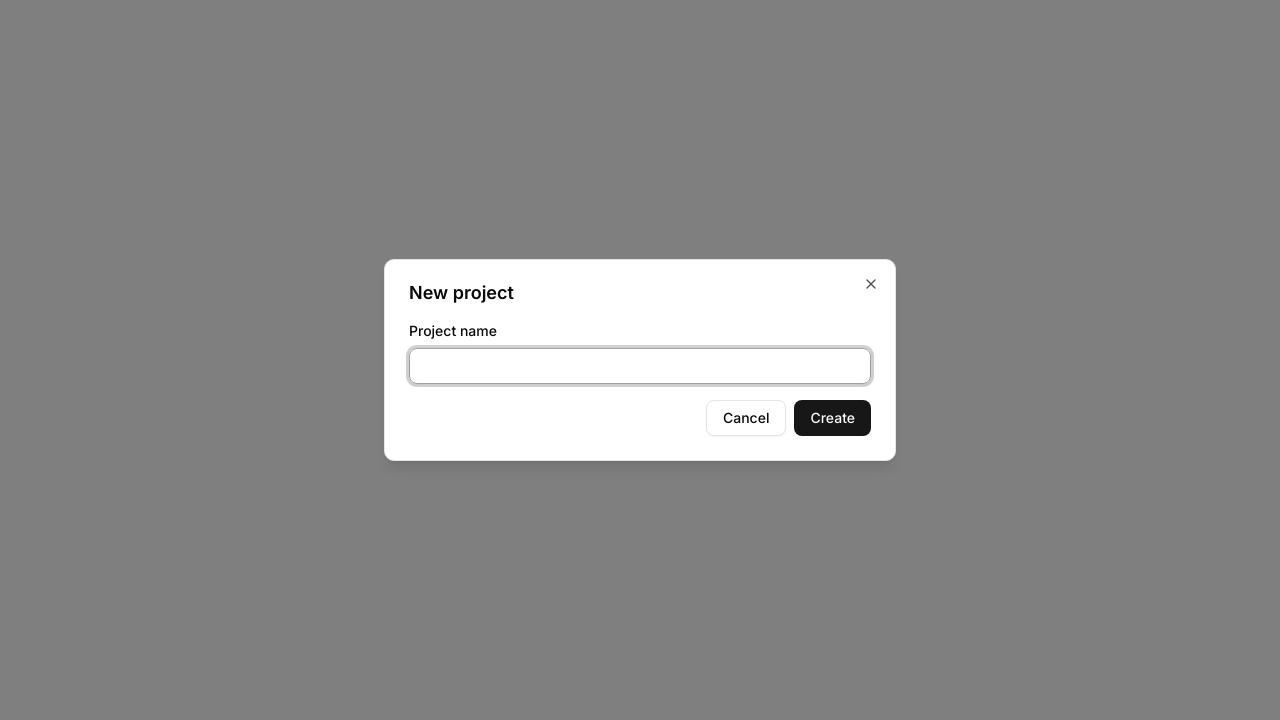
Test: NewProjectDialog › shows error when submitting with empty name
Click the button "Create" at (833, 418), box [794, 400, 871, 436]
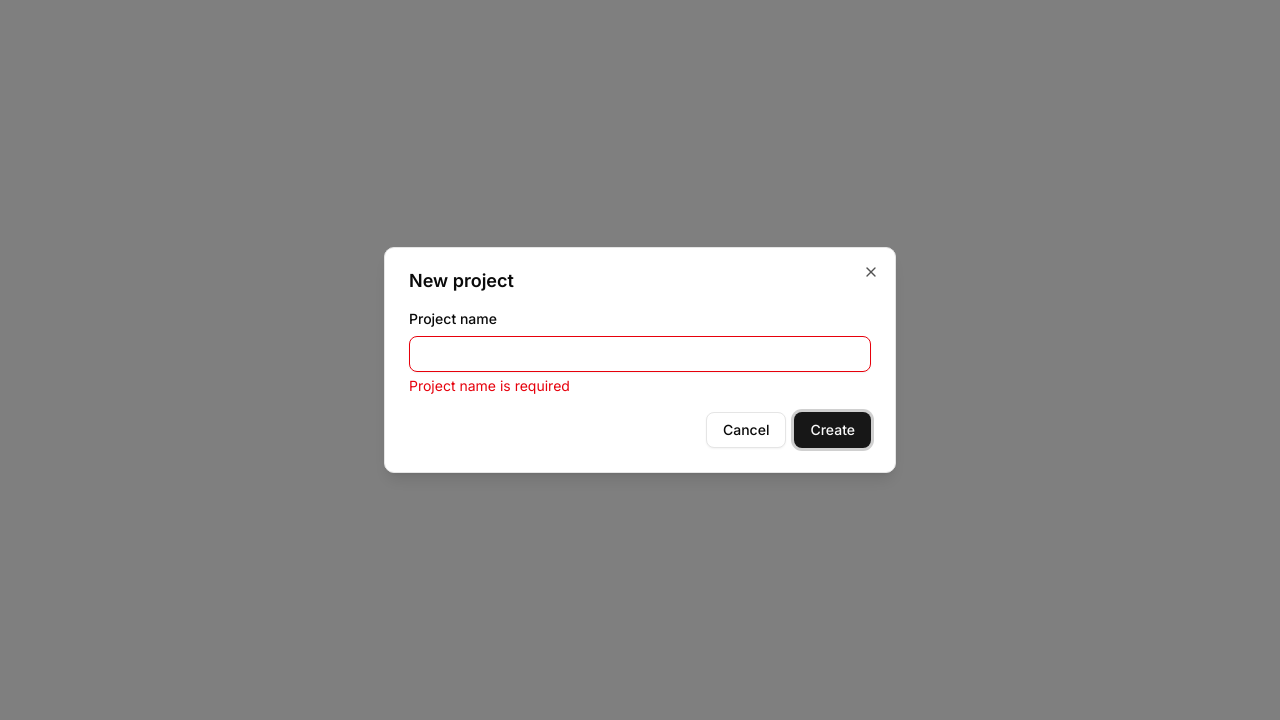
Now the text "Project name is required" is shown, box [409, 377, 570, 394]
